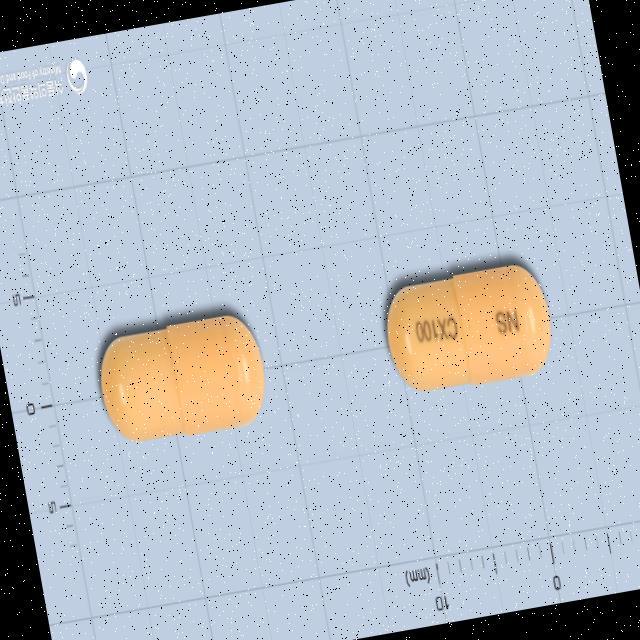Cefixime Cap- Nelson: (85, 303, 278, 456), (372, 250, 561, 405)
